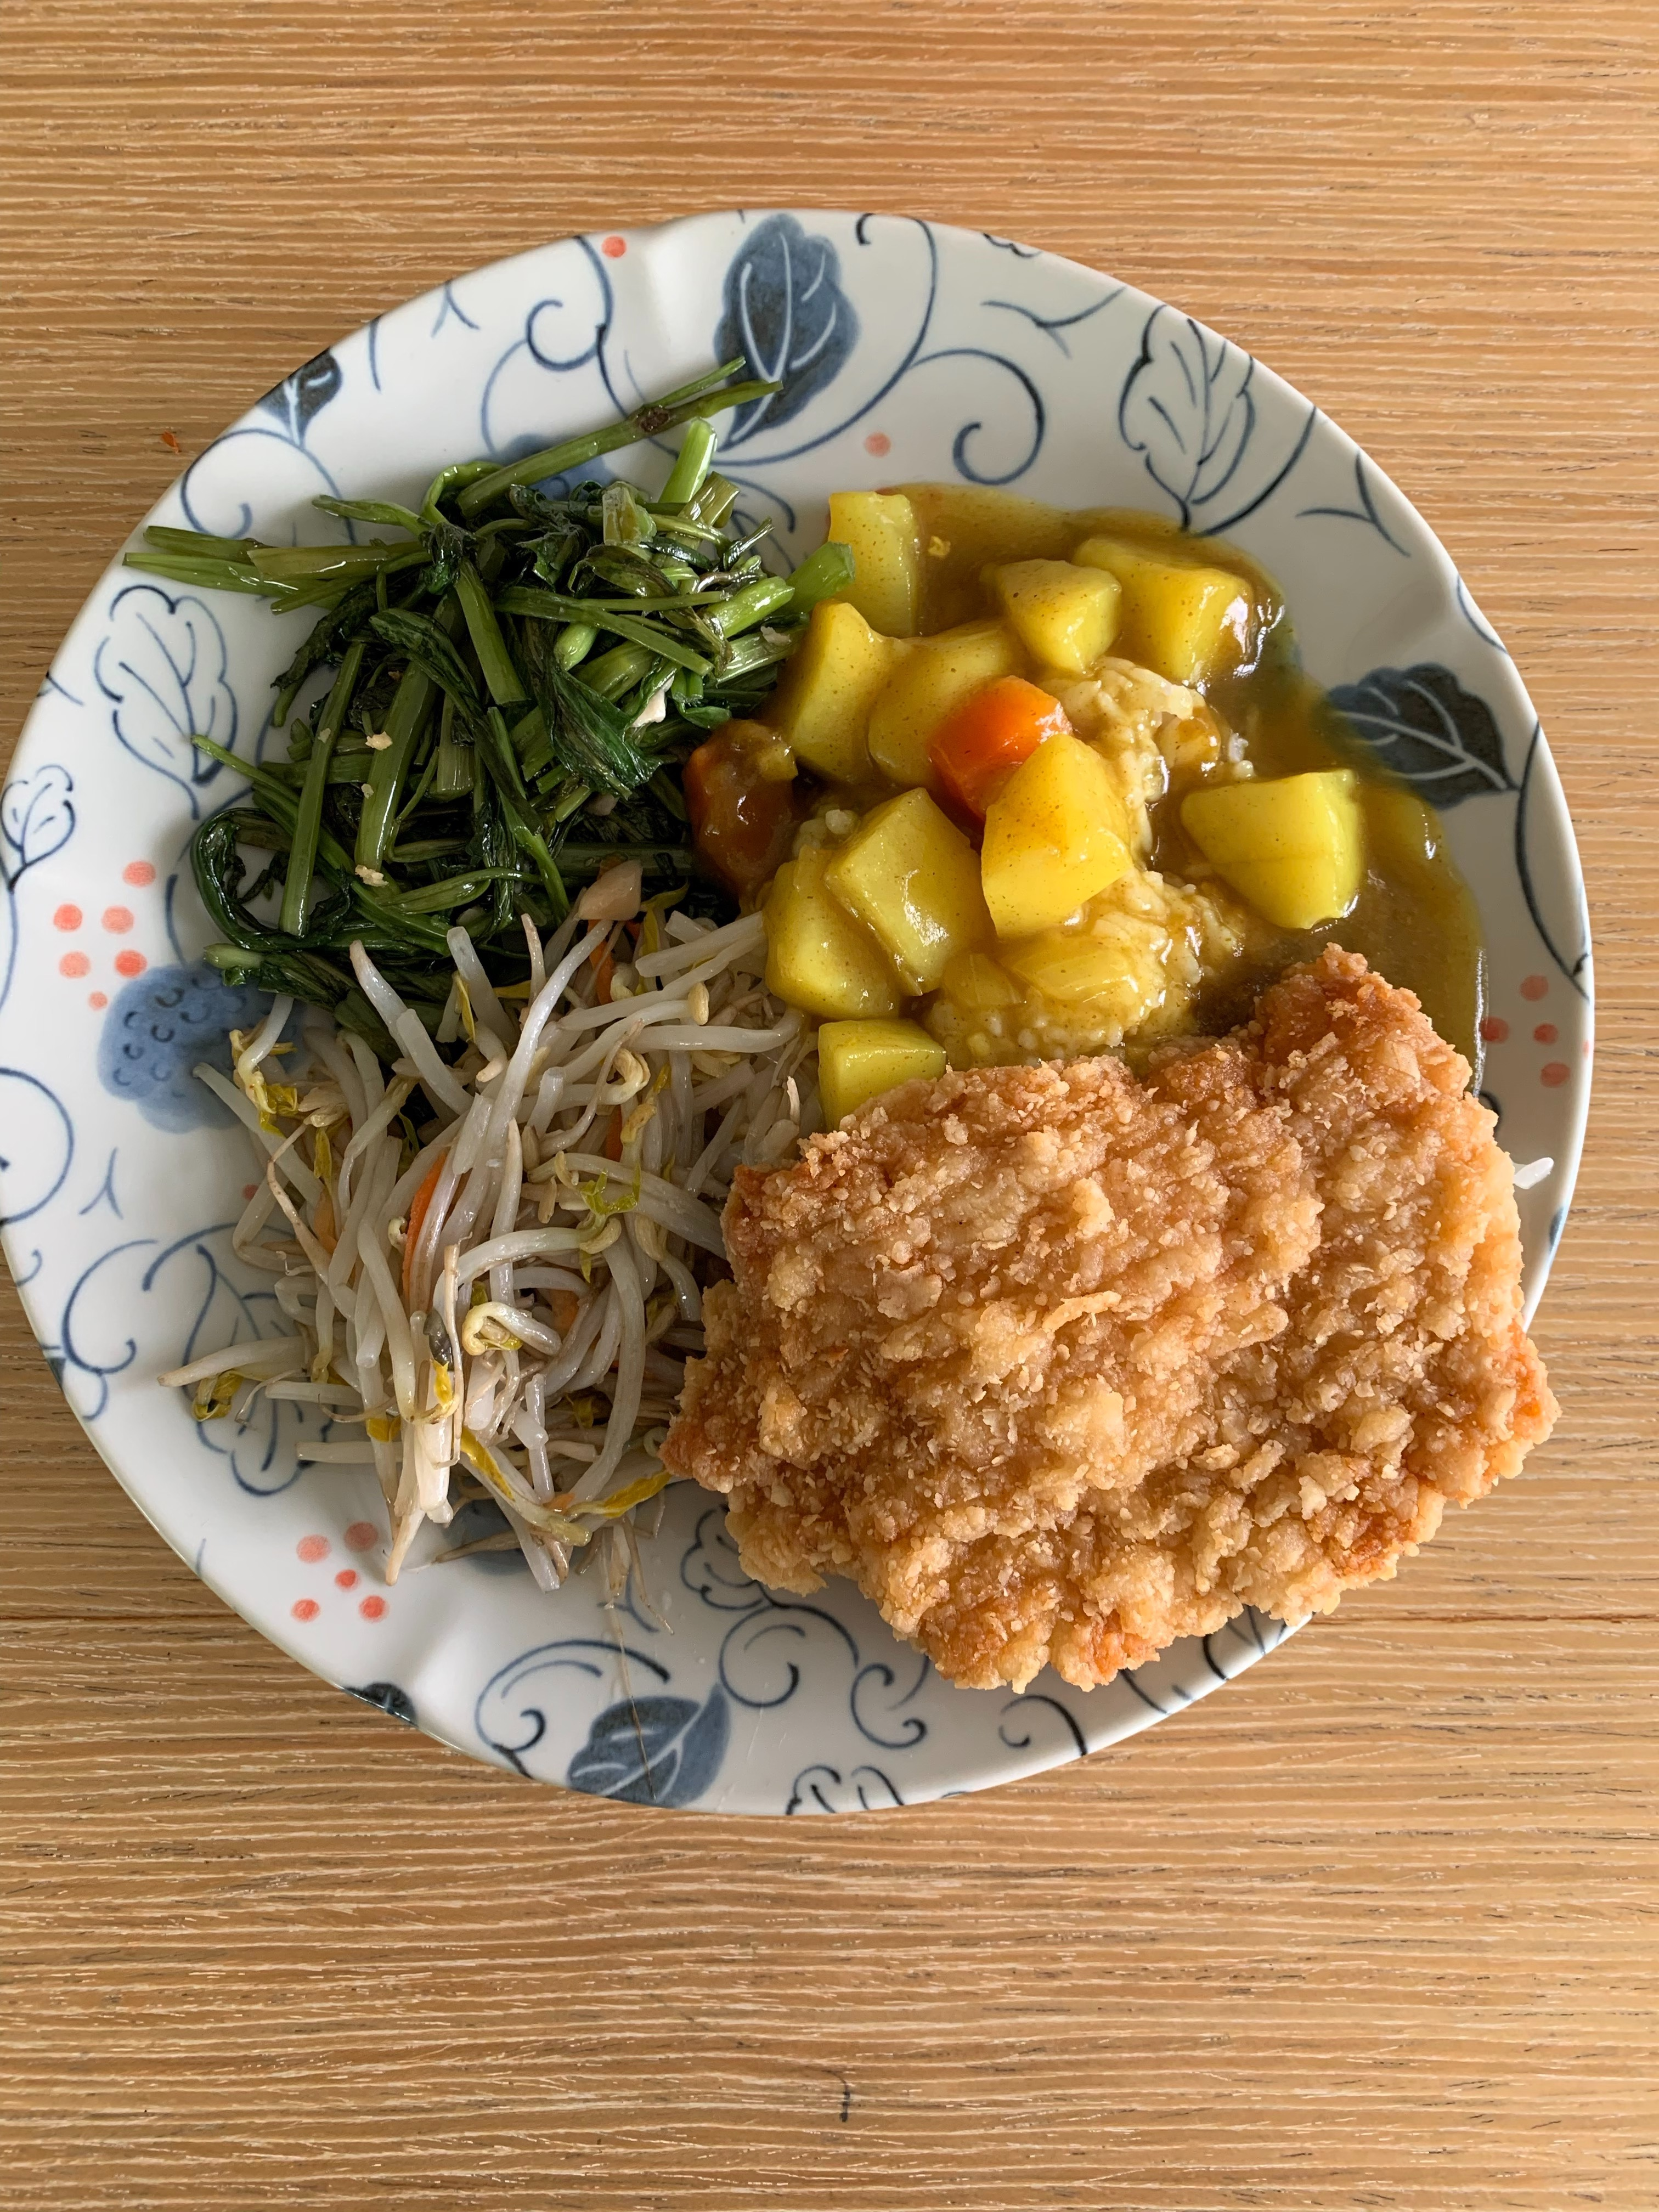curry: (856, 631, 1269, 991)
fried_chicken: (816, 1136, 1471, 1534)
mung_bean_sprouts: (301, 1008, 708, 1465)
water_spinach: (295, 493, 662, 871)
